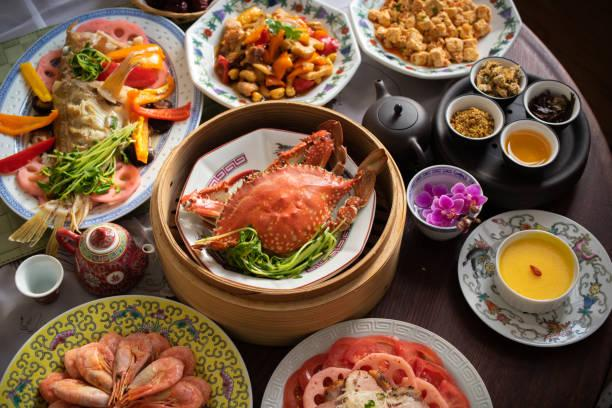Braised Crucian Carp: (149, 101, 397, 345), (3, 8, 198, 228), (0, 295, 250, 405), (456, 210, 612, 346), (258, 317, 491, 406), (183, 0, 356, 110), (350, 0, 518, 81)
